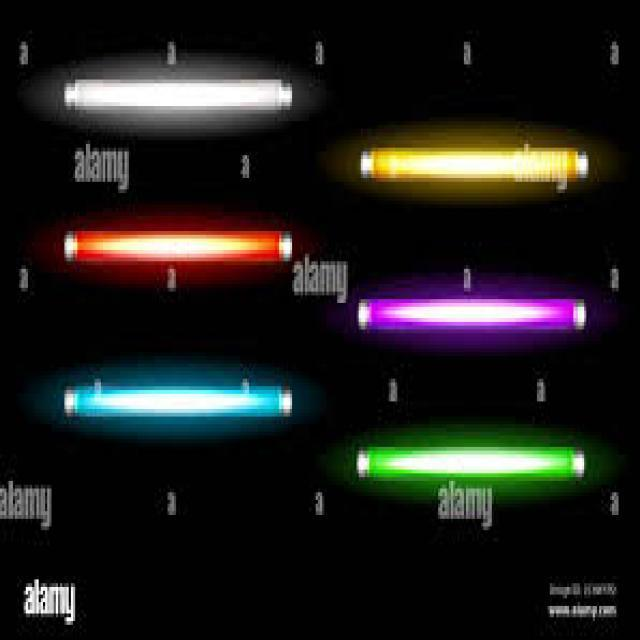tubelight_on: (60, 379, 305, 425), (350, 294, 595, 338), (66, 224, 302, 266), (55, 74, 302, 114), (358, 148, 590, 186), (352, 445, 590, 481)
